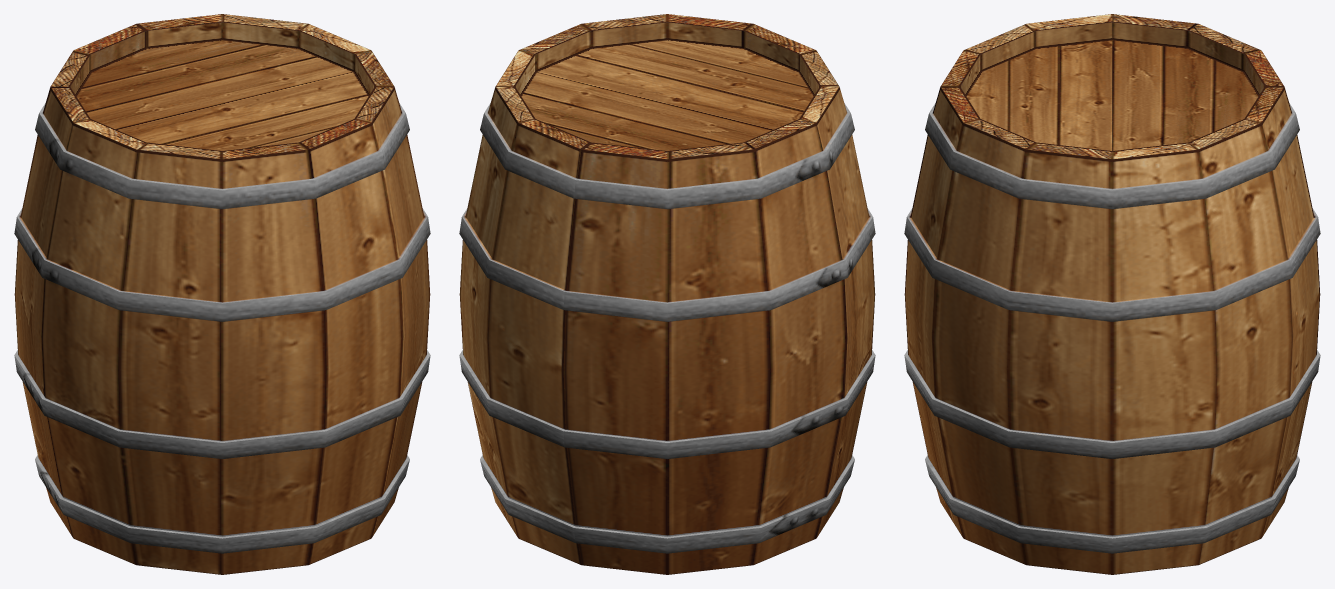
Rendered from Barrel.FBX.
3 renders of one model, left to right at view 1: azimuth 30°, elevation 25°; view 2: azimuth 150°, elevation 25°; view 3: azimuth 270°, elevation 25°, orthographic.
Visible parts, largest first — view 1: Barrel_LOD0; view 2: Barrel_LOD0; view 3: Barrel_LOD0.
Boxes of the visible parts, x1,y1,x2,y2 form: Barrel_LOD0: [14, 14, 430, 574]; Barrel_LOD0: [459, 14, 875, 574]; Barrel_LOD0: [904, 14, 1320, 574].
Size of what is drawn, in the model's own units: 42.89 by 47.24 by 42.89.
